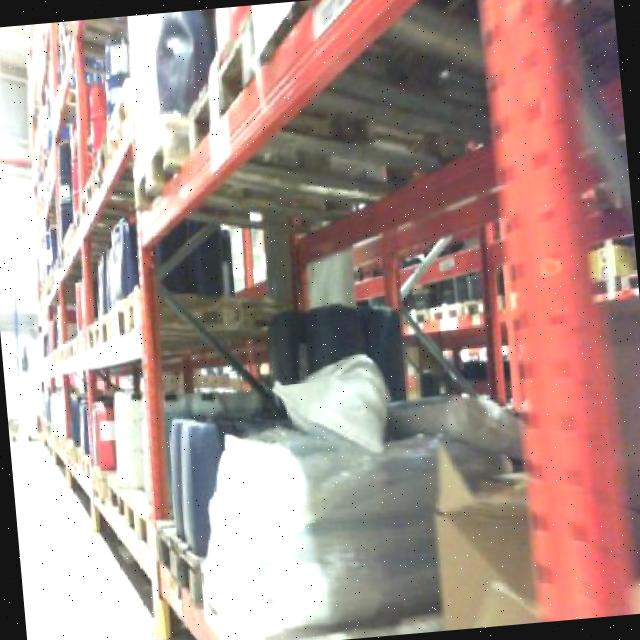pallet: (182, 6, 259, 162), (127, 105, 198, 224), (155, 511, 206, 605), (117, 484, 156, 567), (104, 283, 147, 347), (80, 309, 112, 354)
